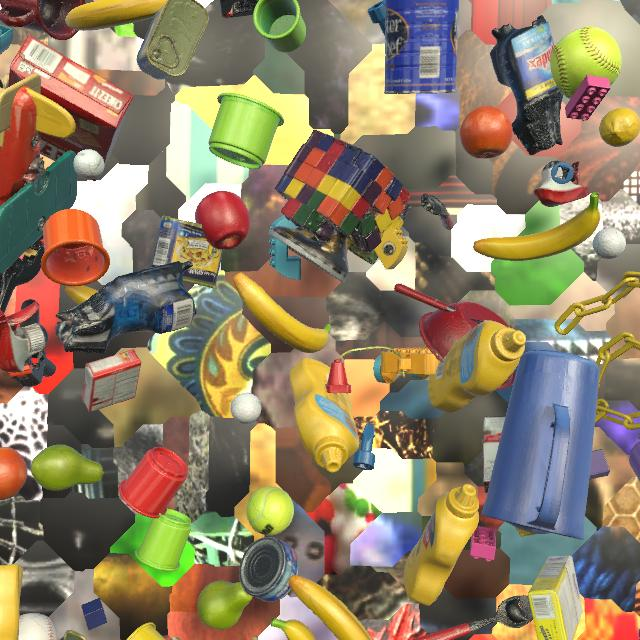ycb_002_master_chef_can: (384, 0, 459, 94)
ycb_003_cracker_box: (8, 35, 134, 182)
ycb_004_sugar_box: (528, 556, 583, 640)
ycb_006_mustard_bottle: (404, 484, 479, 606), (428, 320, 526, 413), (289, 358, 359, 473), (0, 564, 23, 640)
ycb_007_tuna_fish_can: (239, 537, 299, 602)
ycb_008_pudding_box: (482, 416, 506, 493)
ycb_009_gelatin_box: (82, 349, 141, 412)
ycb_010_potted_meat_can: (137, 0, 209, 80), (150, 216, 223, 289), (60, 630, 87, 640)
ycb_011_banana: (473, 192, 600, 261), (233, 273, 331, 353), (288, 575, 372, 640), (65, 285, 150, 332), (65, 0, 168, 31), (270, 618, 316, 640)
ycb_013_apple: (195, 191, 250, 250)
ycb_014_lemon: (599, 107, 640, 147), (515, 527, 535, 536)
ycb_016_pear: (31, 444, 104, 491), (197, 580, 253, 630)
ycb_017_orange: (460, 106, 513, 159), (0, 447, 27, 500)
